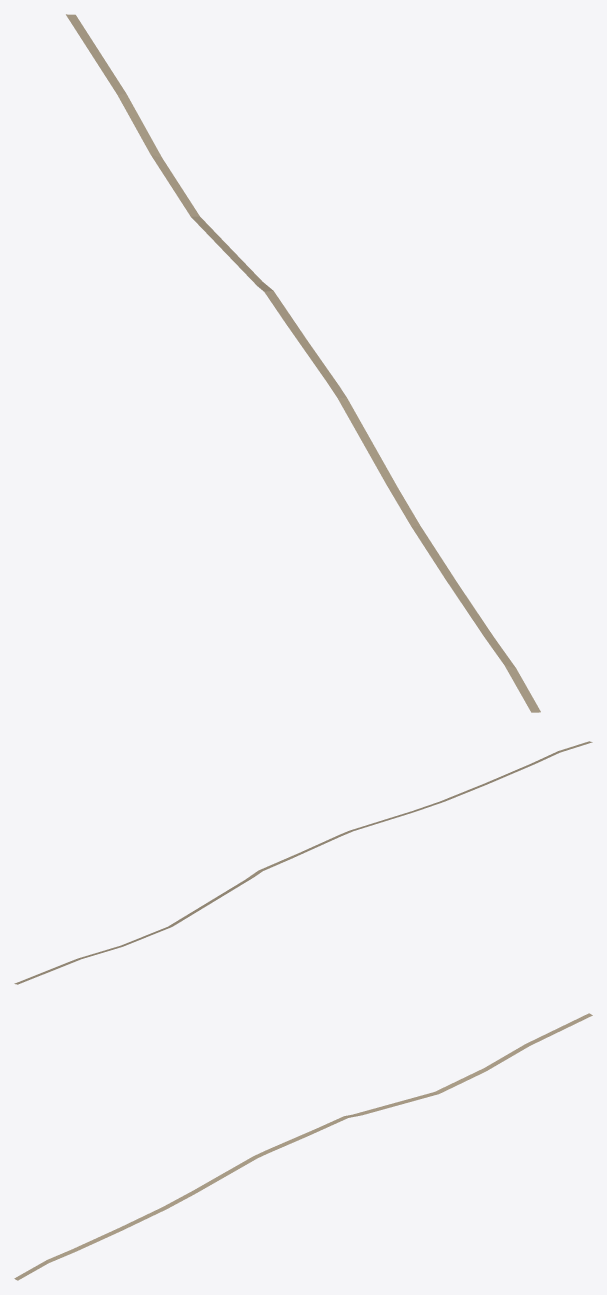
Rendered from farm_-29_-32_track.glb.
The picture shows the model from 3 angles, top to bottom: view 1: azimuth 30°, elevation 25°; view 2: azimuth 150°, elevation 25°; view 3: azimuth 330°, elevation 25°; orthographic projection. The views are drawn at different scales.
Parts seen in each view (by area): view 1: geometry_0; view 2: geometry_0; view 3: geometry_0.
Boxes of the visible parts, box(x1,y1,x2,y2) form: geometry_0: box(66, 14, 540, 712); geometry_0: box(14, 741, 592, 984); geometry_0: box(14, 1013, 592, 1280).
Size of the model in its own units: 127 by 12.21 by 508.
